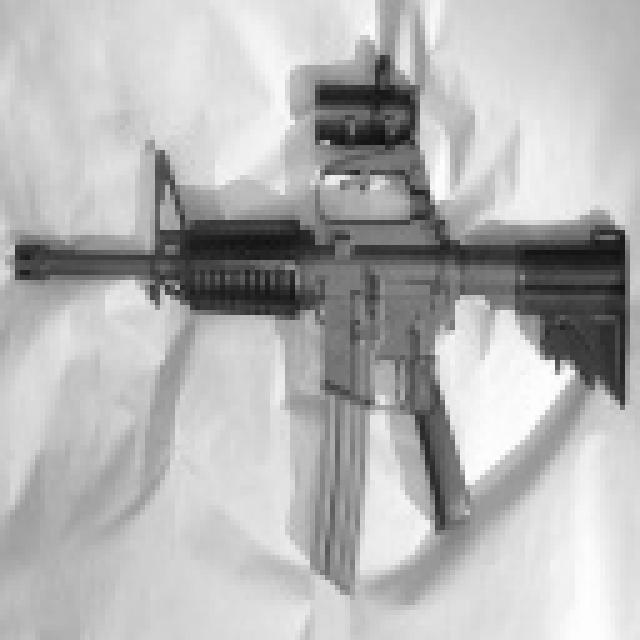Rifle: (0, 54, 640, 621)
